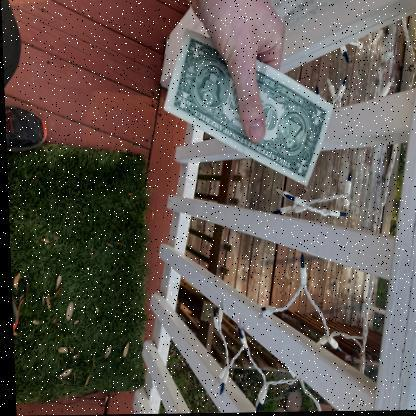one-back: (162, 29, 332, 188)
